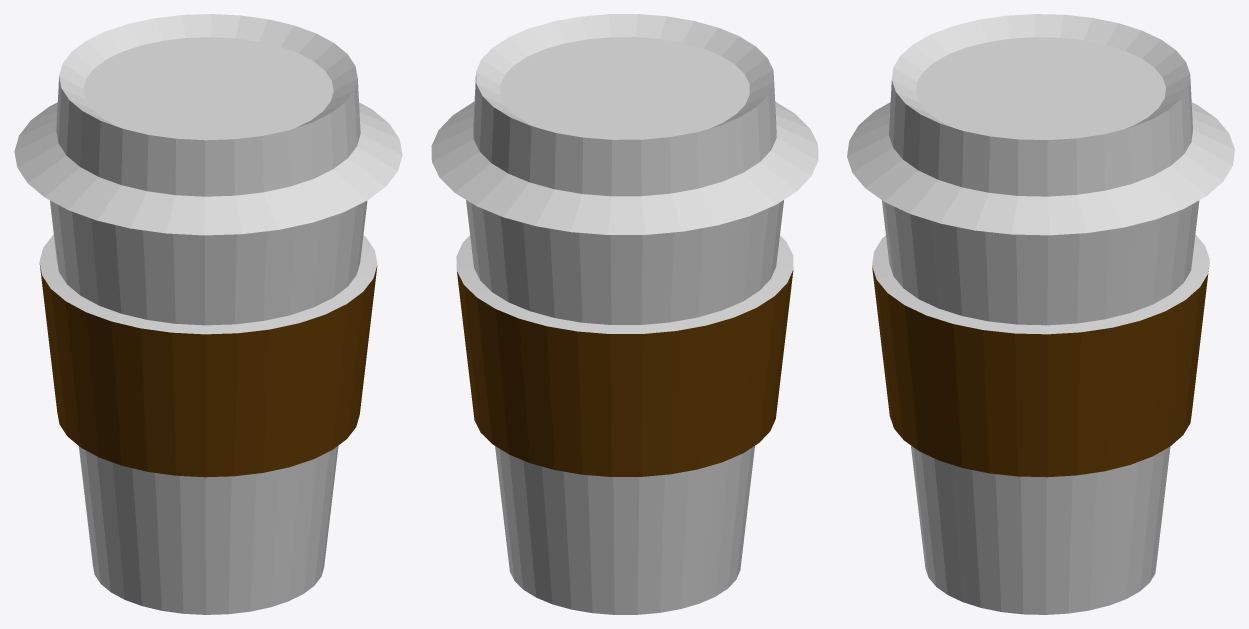
The model's file is Cup_Brown.fbx.
The picture shows the model from 3 angles, left to right: view 1: azimuth 30°, elevation 25°; view 2: azimuth 150°, elevation 25°; view 3: azimuth 270°, elevation 25°; orthographic projection.
Parts seen in each view (by area): view 1: Cup; view 2: Cup; view 3: Cup.
Boxes of the visible parts, x1,y1,x2,y2 form: Cup: [14, 14, 402, 614]; Cup: [431, 14, 818, 614]; Cup: [847, 14, 1234, 614].
Bounding box in the file's own units: 291 × 405 × 291.
